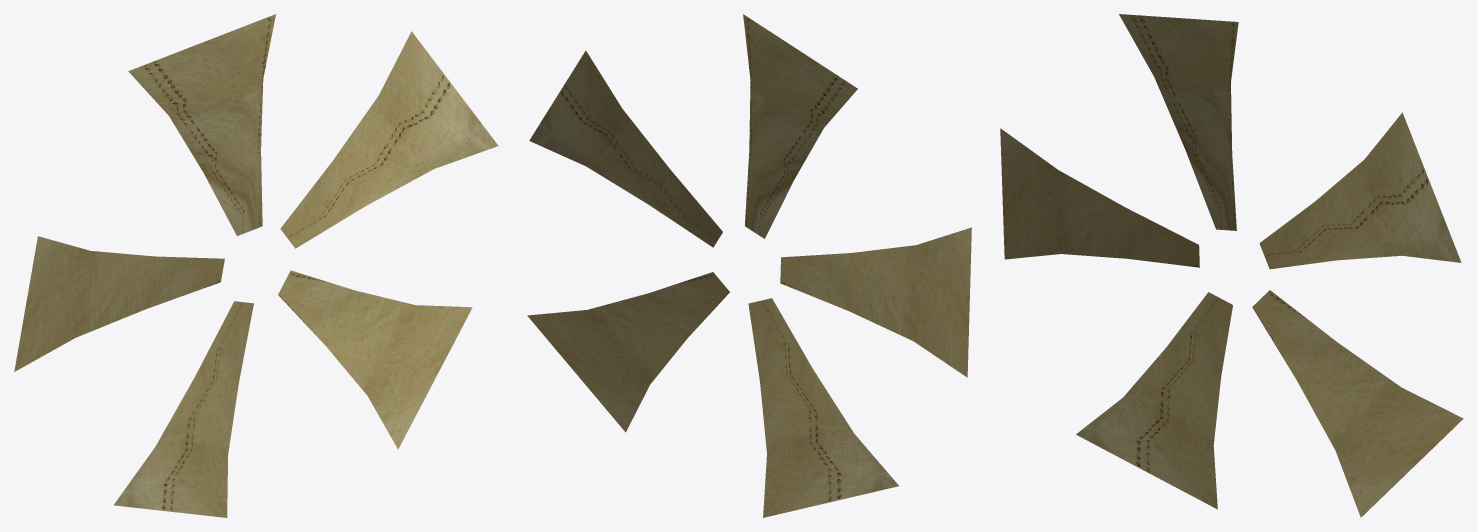
Rendered from MillFabric.fbx.
3 views of the same model, side by side, from view 1: azimuth 30°, elevation 25°; view 2: azimuth 150°, elevation 25°; view 3: azimuth 330°, elevation 25° (orthographic). The views are drawn at different scales.
Parts seen in each view (by area): view 1: polySurface133; view 2: polySurface133; view 3: polySurface133.
Part boxes in pixels (box(x1,y1,x2,y2)): polySurface133: box(14, 14, 498, 517); polySurface133: box(527, 14, 971, 517); polySurface133: box(1000, 14, 1463, 517).
Bounding box in the file's own units: 1582 × 1625 × 81.78.
